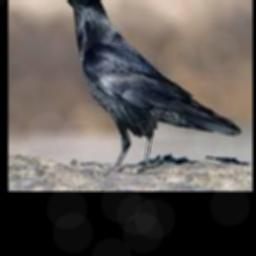Crow: (50, 0, 242, 169)
